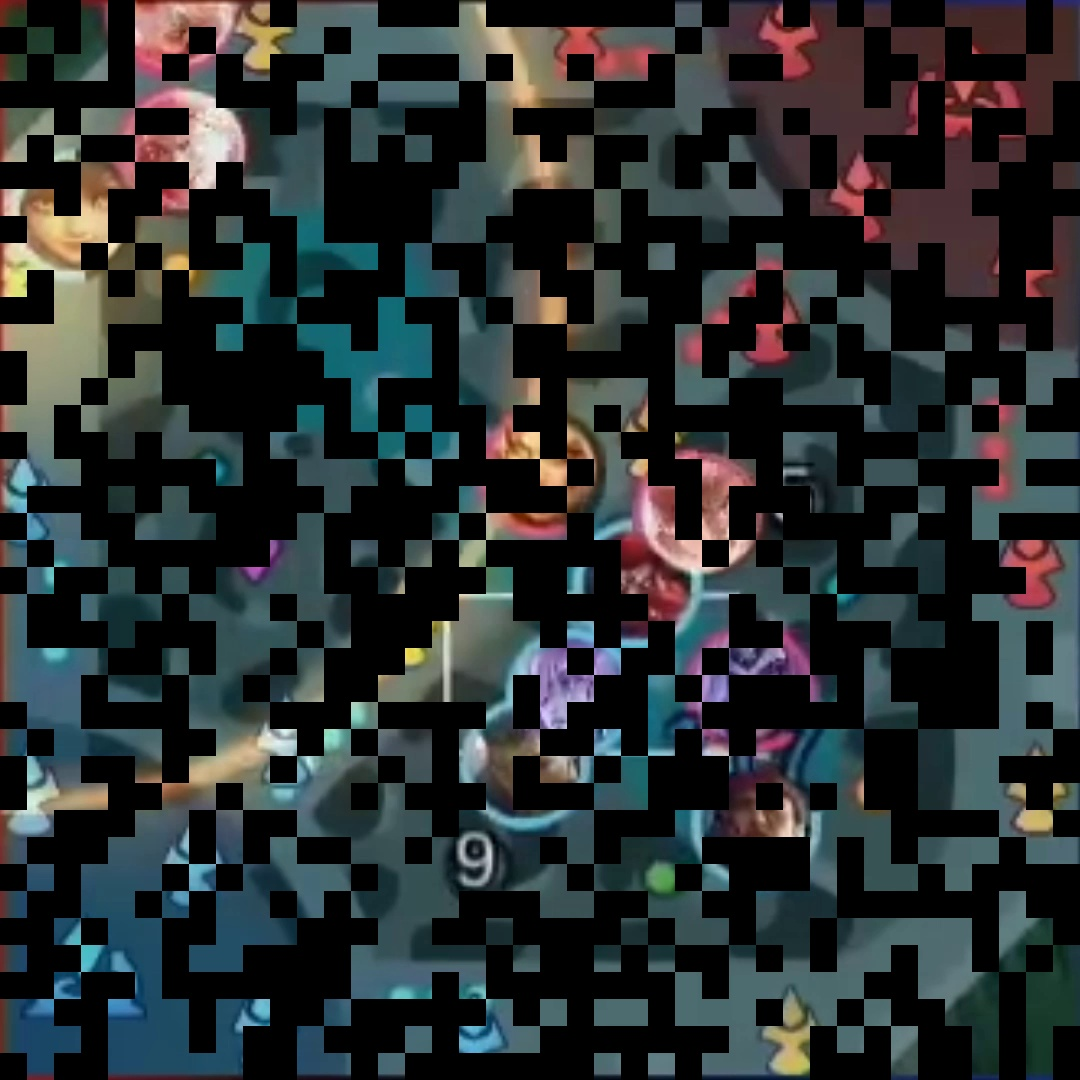Chou: (650, 466, 747, 564)
Claude: (140, 103, 237, 202)
Fanny: (122, 1, 223, 58)
Fredrinn: (473, 723, 562, 811)
Lapu-Lapu: (719, 785, 802, 871)
Masha: (498, 429, 589, 523)
Minotaur: (593, 543, 689, 642)
Novaria: (523, 651, 614, 745)
Valentina: (702, 641, 805, 742)
Wanwan: (34, 171, 119, 263)
